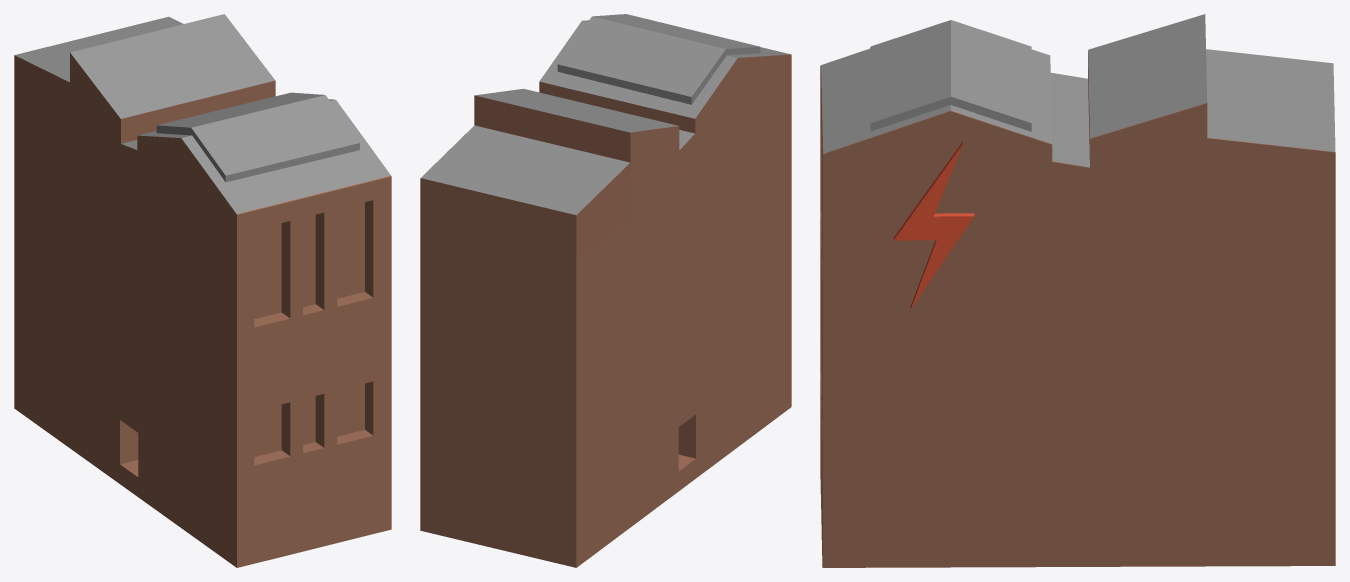
The model's file is ketelhuis.glb.
3 views of the same model, side by side, from view 1: azimuth 30°, elevation 25°; view 2: azimuth 150°, elevation 25°; view 3: azimuth 270°, elevation 25° (orthographic). The views are drawn at different scales.
Parts seen in each view (by area): view 1: Cube.009, Cube.002; view 2: Cube.009, Cube.002; view 3: Cube.009, Cube.002, Cube.025.
Part boxes in pixels (bbox=[...]): Cube.009: bbox=[14, 14, 391, 567]; Cube.002: bbox=[156, 92, 359, 182]; Cube.009: bbox=[420, 20, 791, 567]; Cube.002: bbox=[557, 14, 760, 104]; Cube.009: bbox=[820, 14, 1335, 567]; Cube.002: bbox=[870, 20, 1031, 131]; Cube.025: bbox=[893, 141, 974, 308].
Bounding box in the file's own units: 0.9759 × 2.26 × 2.27.
